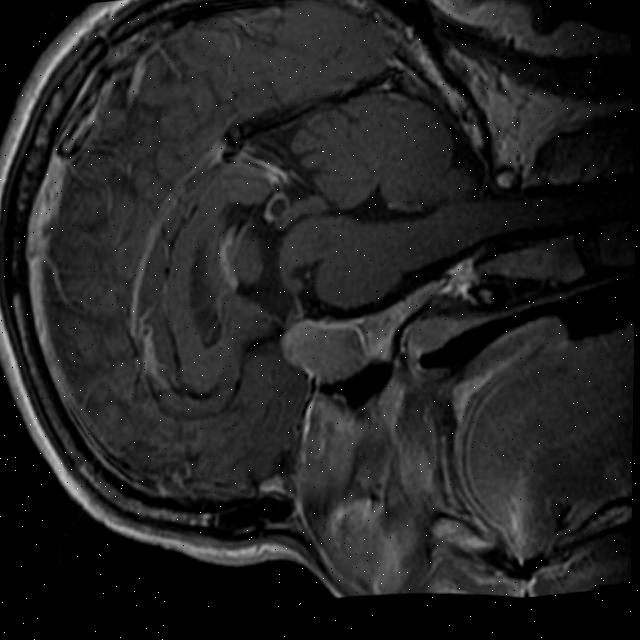Pituitary: (279, 309, 374, 386)
